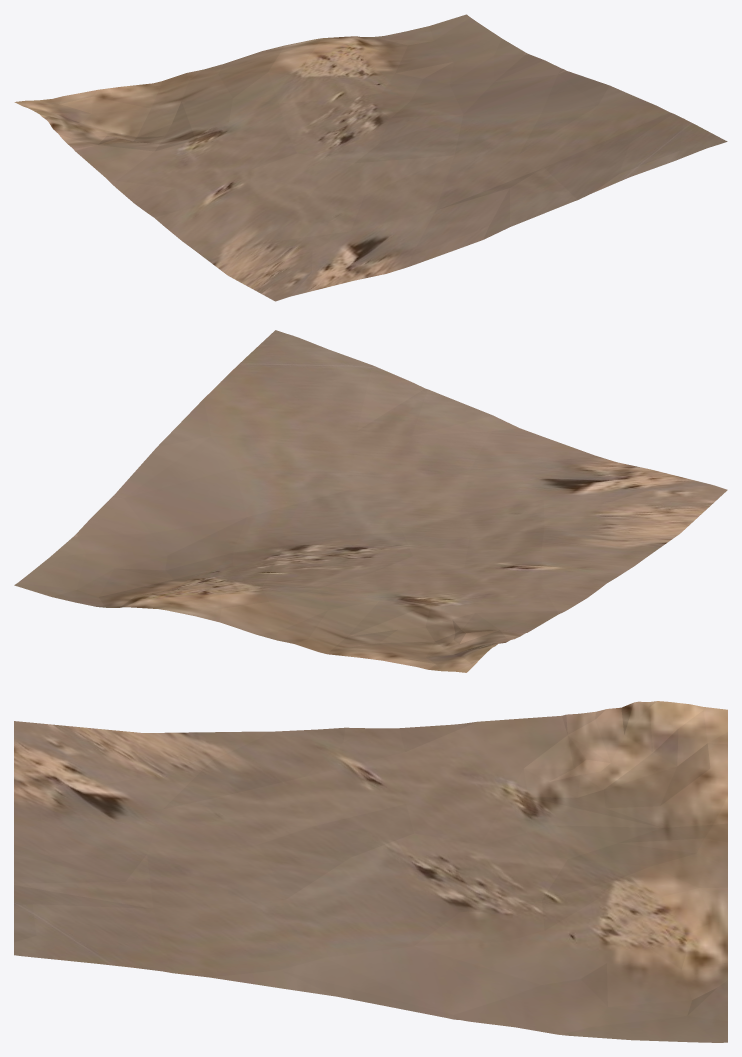
3 views of the same model, one above another, from view 1: azimuth 30°, elevation 25°; view 2: azimuth 150°, elevation 25°; view 3: azimuth 270°, elevation 25° (orthographic). The views are drawn at different scales.
Bounding box in the file's own units: 1.04 × 0.1498 × 1.04.
2 materials, 2 textured.
